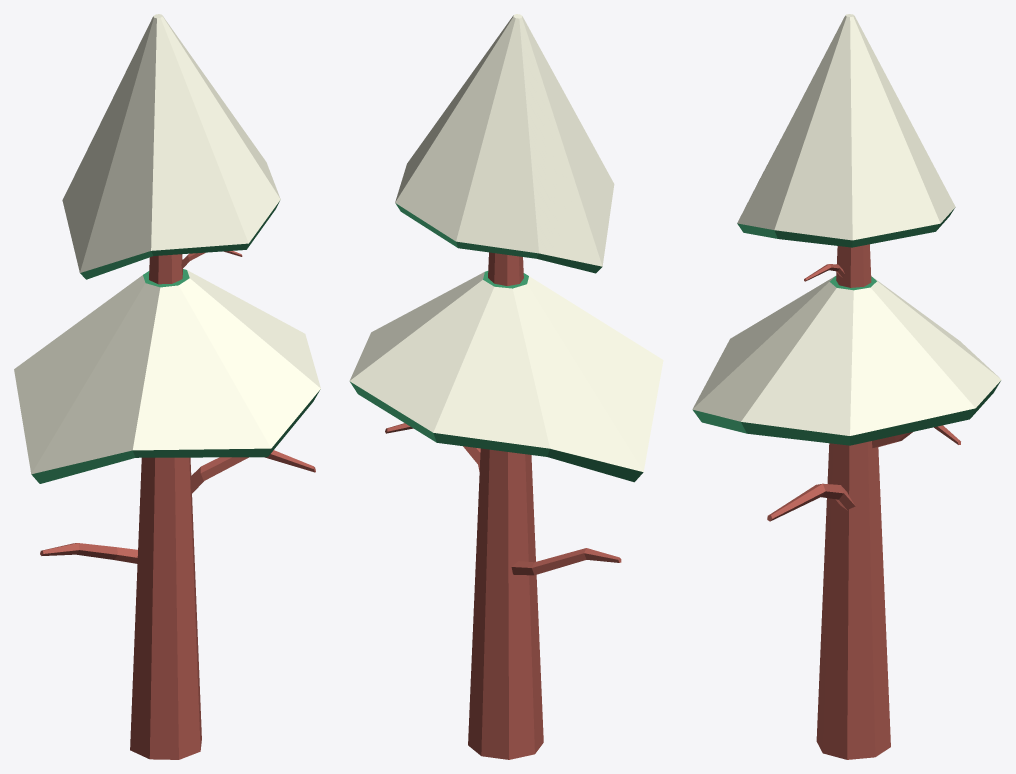
File: Tree3_winter.FBX
3 views of the same model, side by side, from view 1: azimuth 30°, elevation 25°; view 2: azimuth 150°, elevation 25°; view 3: azimuth 270°, elevation 25° (orthographic).
Visible parts, largest first — view 1: Tree 2 summer.005; view 2: Tree 2 summer.005; view 3: Tree 2 summer.005.
Boxes of the visible parts, x1,y1,x2,y2 form: Tree 2 summer.005: (14, 14, 320, 759); Tree 2 summer.005: (349, 14, 663, 759); Tree 2 summer.005: (692, 14, 1001, 759).
Bounding box in the file's own units: 2.66 × 6.81 × 2.64.
